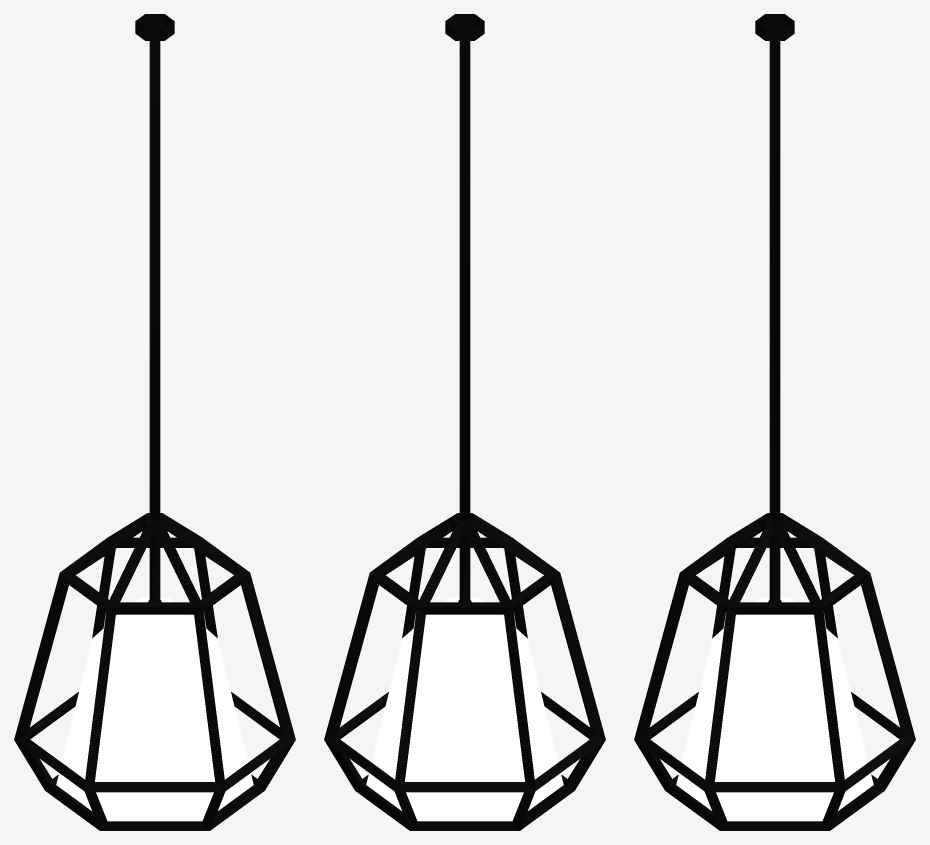
3 renders of one model, left to right at view 1: azimuth 30°, elevation 25°; view 2: azimuth 150°, elevation 25°; view 3: azimuth 270°, elevation 25°, orthographic.
Parts seen in each view (by area): view 1: LightFixture; view 2: LightFixture; view 3: LightFixture.
Part boxes in pixels (bbox=[...]): LightFixture: bbox=[14, 14, 295, 830]; LightFixture: bbox=[324, 14, 605, 830]; LightFixture: bbox=[634, 14, 915, 830].
Bounding box in the file's own units: 0.2453 × 0.8559 × 0.2833.
Materials: 1 (1 with a texture image).
